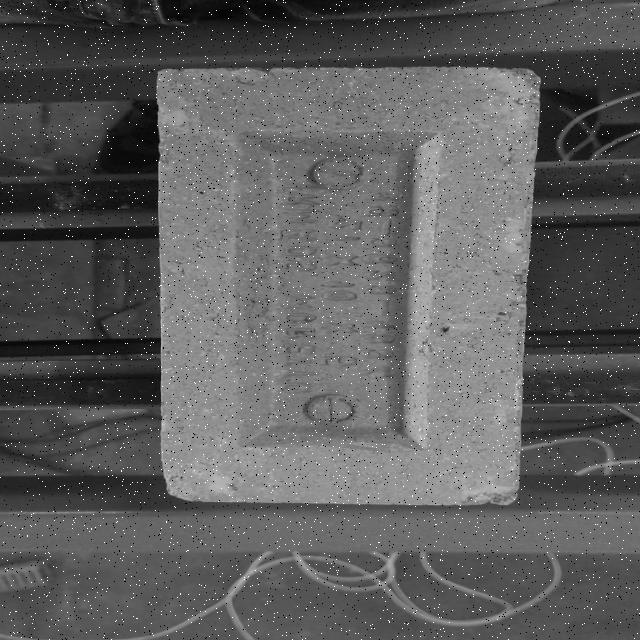bricks: (153, 69, 542, 508)
